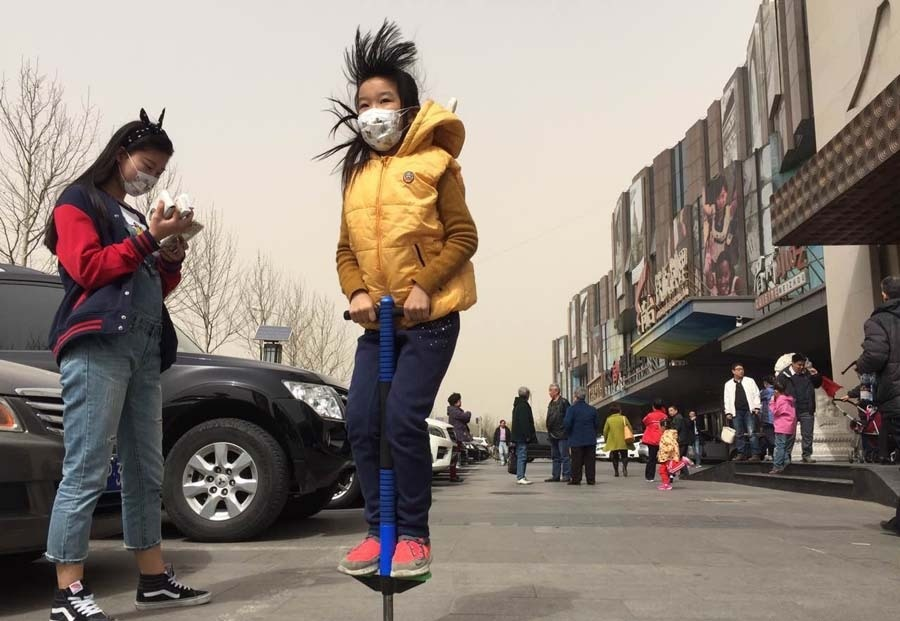face_mask: (356, 81, 407, 147), (123, 149, 170, 196)
